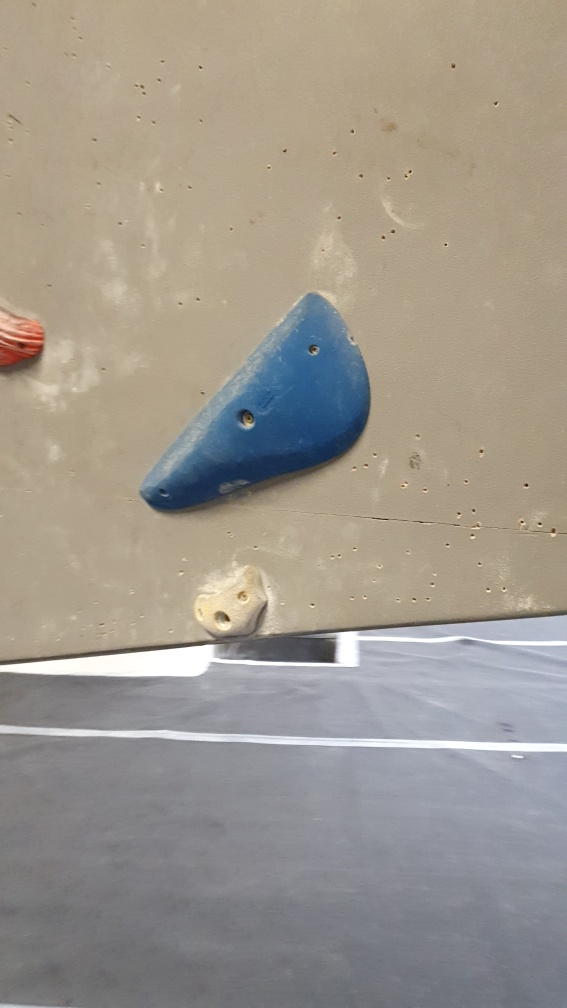Jug: (1, 304, 50, 379)
